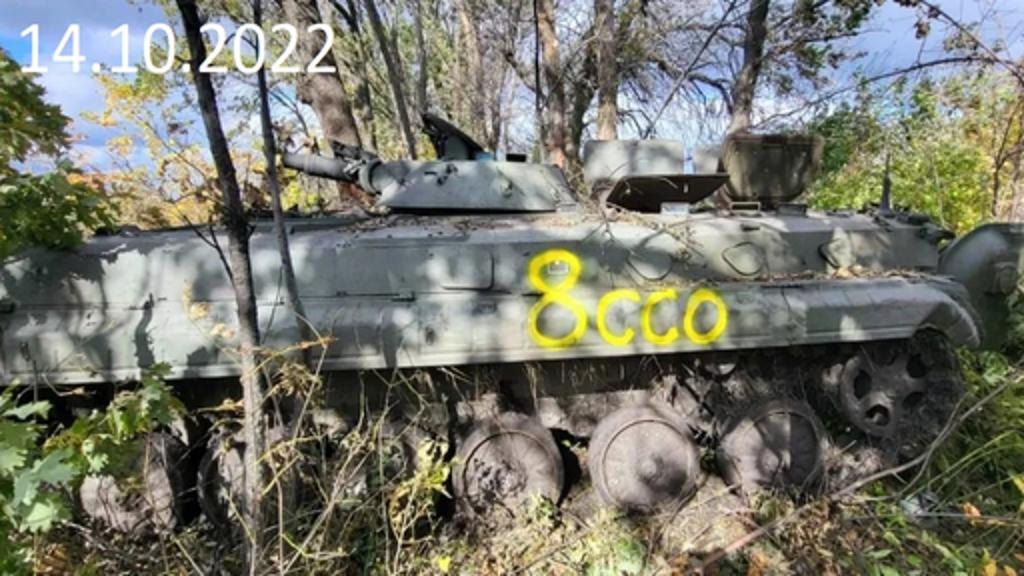APC-IFV: (0, 108, 990, 538)
